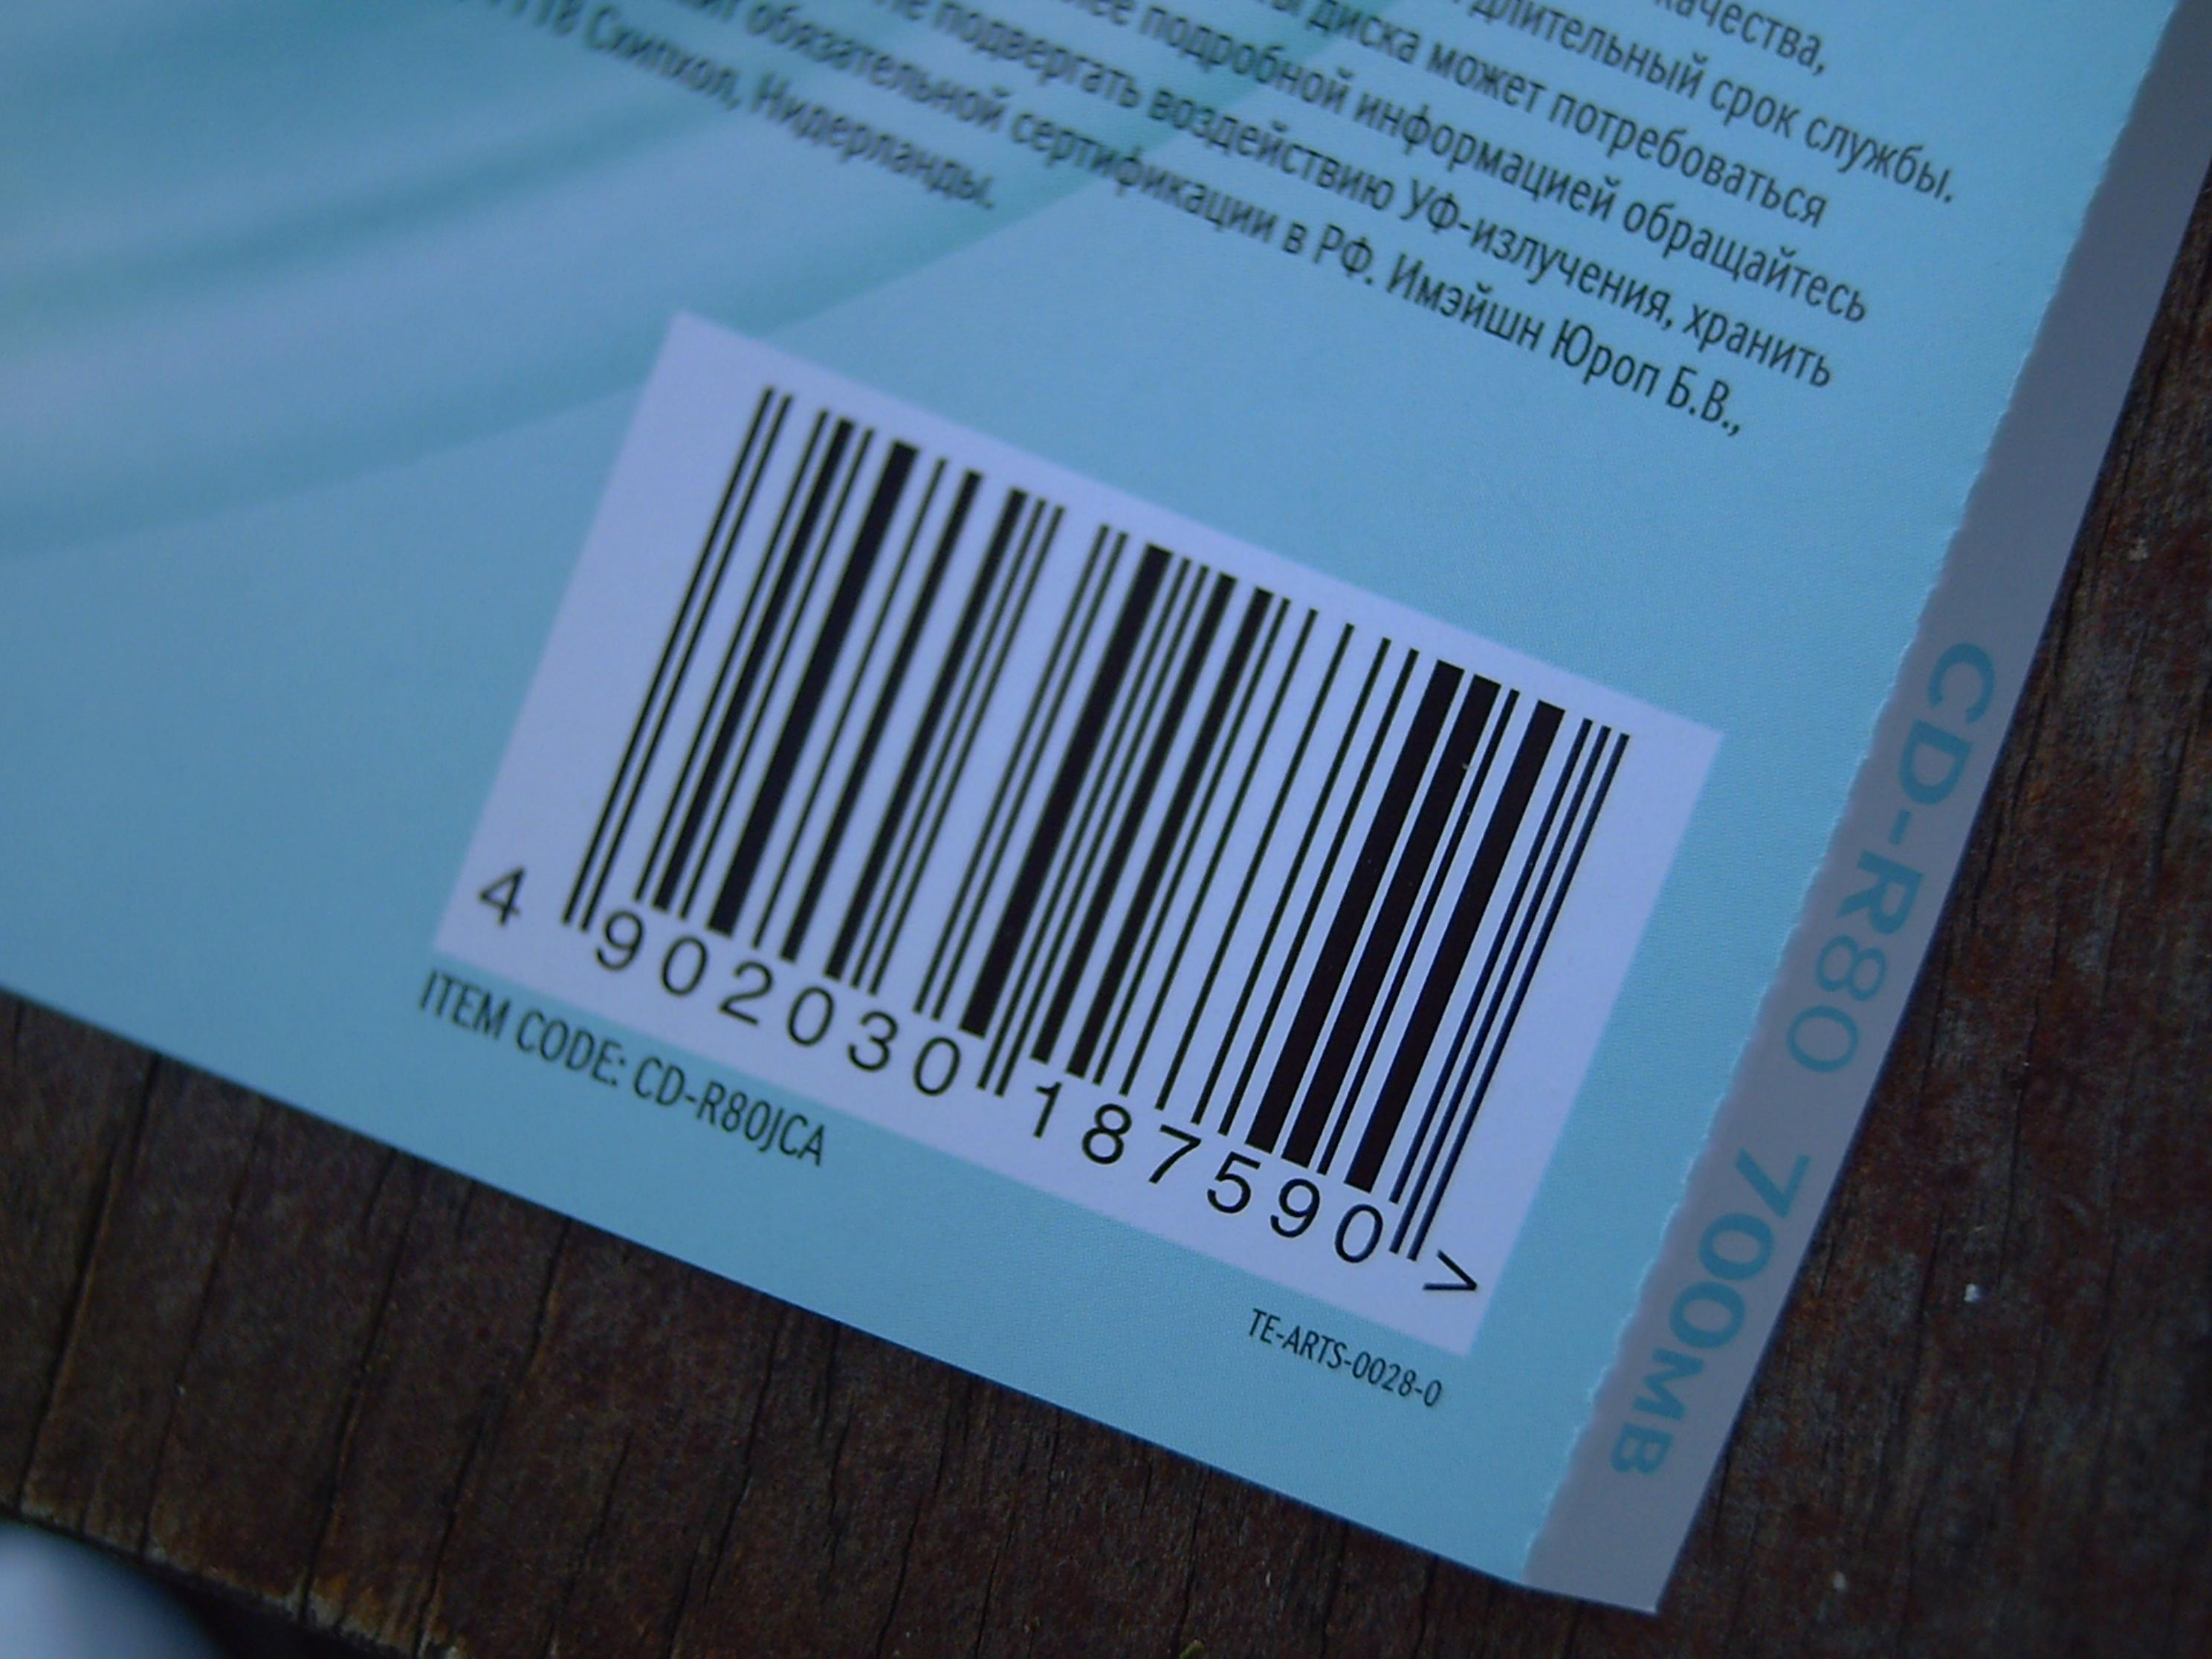barcode: (437, 310, 1721, 1352)
